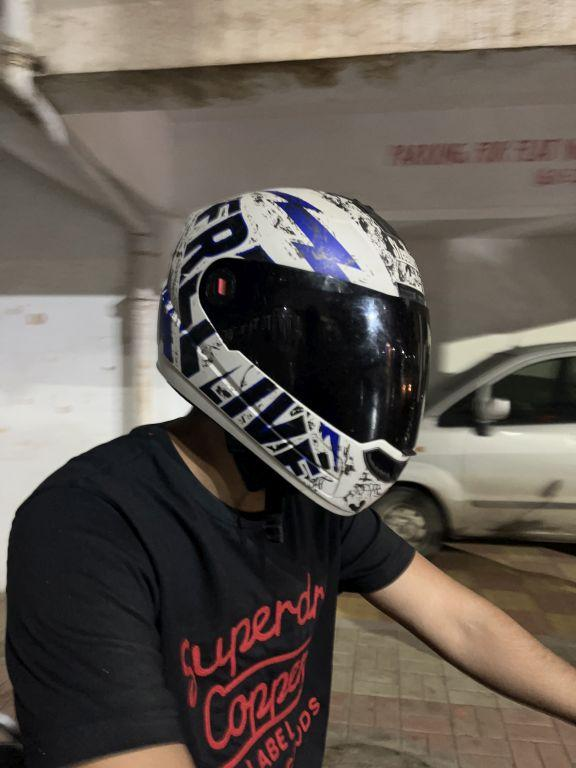helmet: (139, 174, 436, 547)
